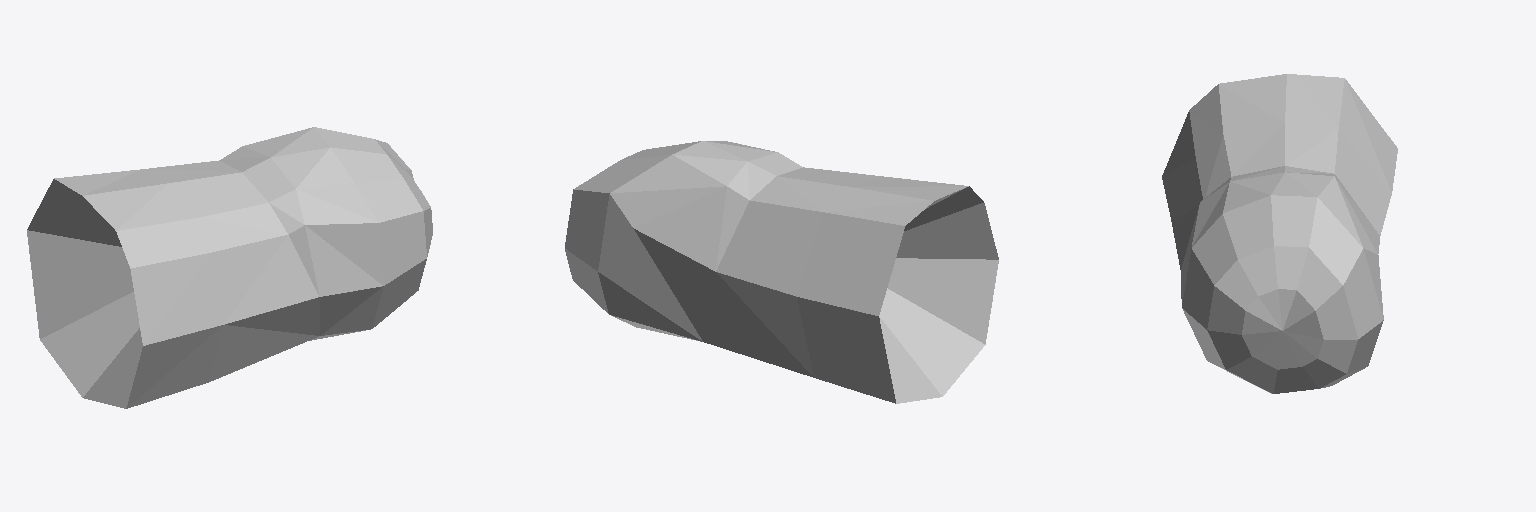
Rendered from right shoulder.obj.
3 views of the same model, side by side, from view 1: azimuth 30°, elevation 25°; view 2: azimuth 150°, elevation 25°; view 3: azimuth 270°, elevation 25° (orthographic).
Visible parts, largest first — view 1: model459.003; view 2: model459.003; view 3: model459.003.
Part boxes in pixels (bbox=[...]): model459.003: bbox=[27, 127, 432, 408]; model459.003: bbox=[565, 141, 998, 403]; model459.003: bbox=[1162, 74, 1397, 393].
Bounding box in the file's own units: 2.42 × 1.31 × 1.42.